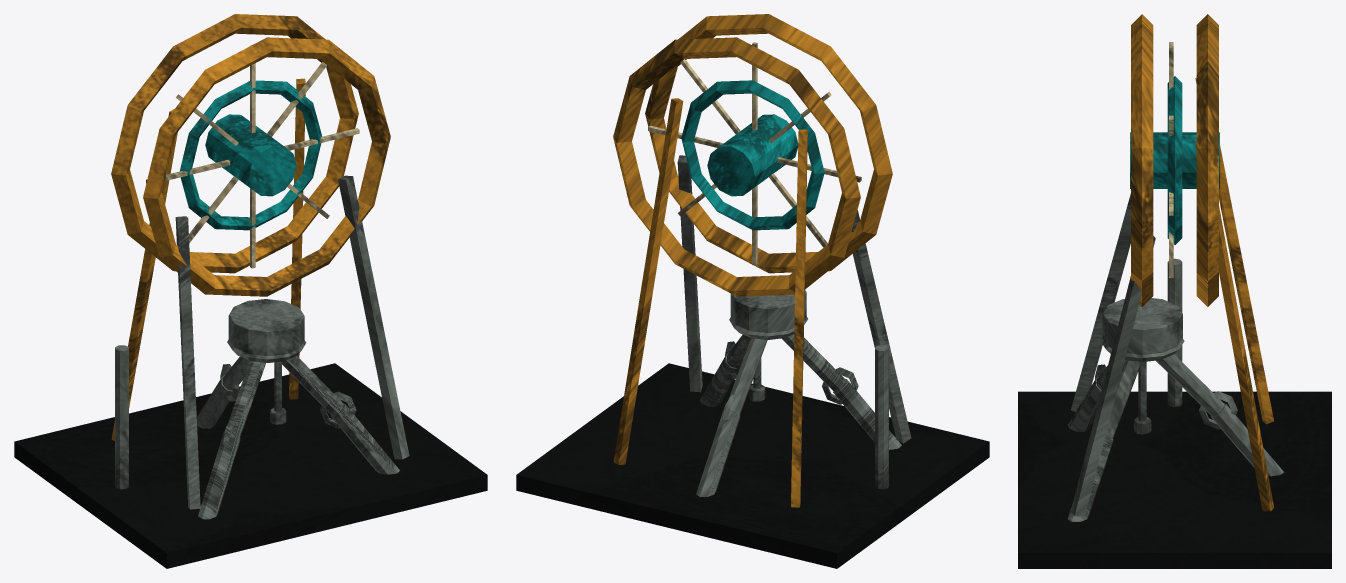
File: west-rim-debris-catcher.glb
The picture shows the model from 3 angles, left to right: view 1: azimuth 30°, elevation 25°; view 2: azimuth 150°, elevation 25°; view 3: azimuth 270°, elevation 25°; orthographic projection. The views are drawn at different scales.
Visible parts, largest first — view 1: west-rim-debris-catcher; view 2: west-rim-debris-catcher; view 3: west-rim-debris-catcher.
Part boxes in pixels (bbox=[...]): west-rim-debris-catcher: bbox=[14, 14, 487, 568]; west-rim-debris-catcher: bbox=[516, 14, 989, 568]; west-rim-debris-catcher: bbox=[1018, 14, 1331, 568].
Size of the model in its own units: 5.1 by 6.87 by 4.2.
Materials: 1 (1 with a texture image).
